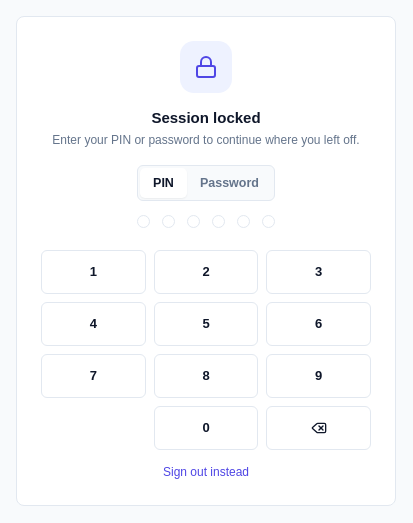
Test: Locked — resuming the session › shows a lockout countdown and hides the keypad and 'Sign out instead' link
Click the button "0".
click(206, 428)  # box [154,406,258,450]
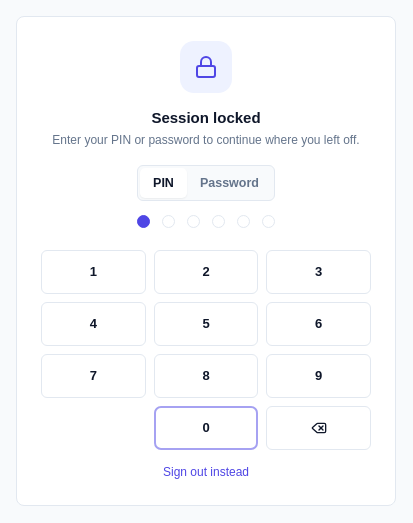
Click the button "0".
click(206, 428)  # box [154,406,258,450]
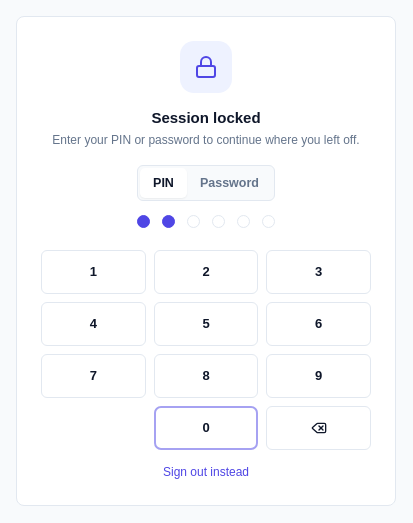
Click the button "0".
click(206, 428)  # box [154,406,258,450]
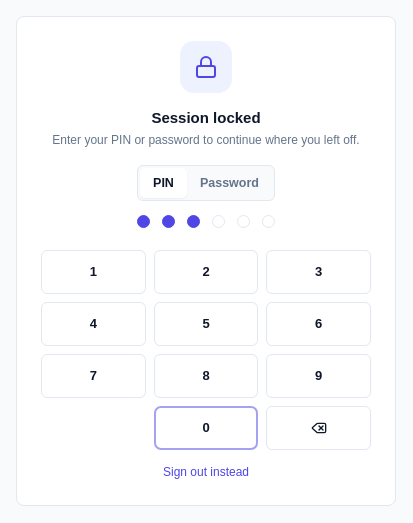
Click the button "0".
click(206, 428)  # box [154,406,258,450]
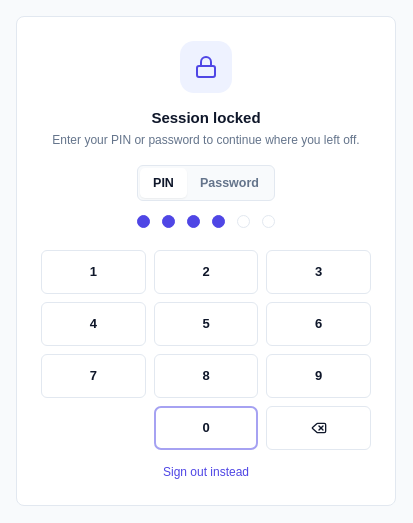
Click the button "0".
click(206, 428)  # box [154,406,258,450]
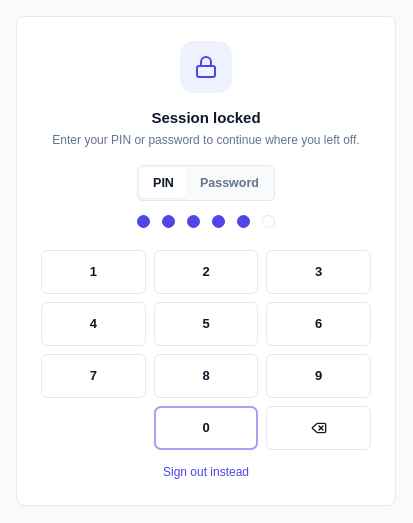
Click the button "0".
click(206, 428)  # box [154,406,258,450]
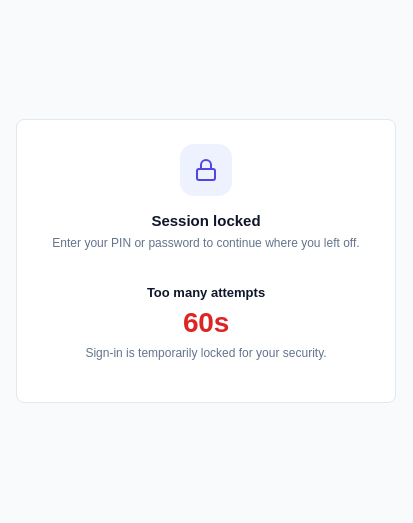
Now the text "Too many attempts" is shown, box [147,284,265,302]
Now the text "60s" is shown, box [183,308,229,339]
Now the button "1" is gone
